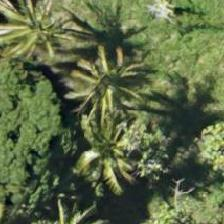coconut_tree: (94, 117, 184, 207), (73, 49, 163, 139), (0, 0, 70, 69)
